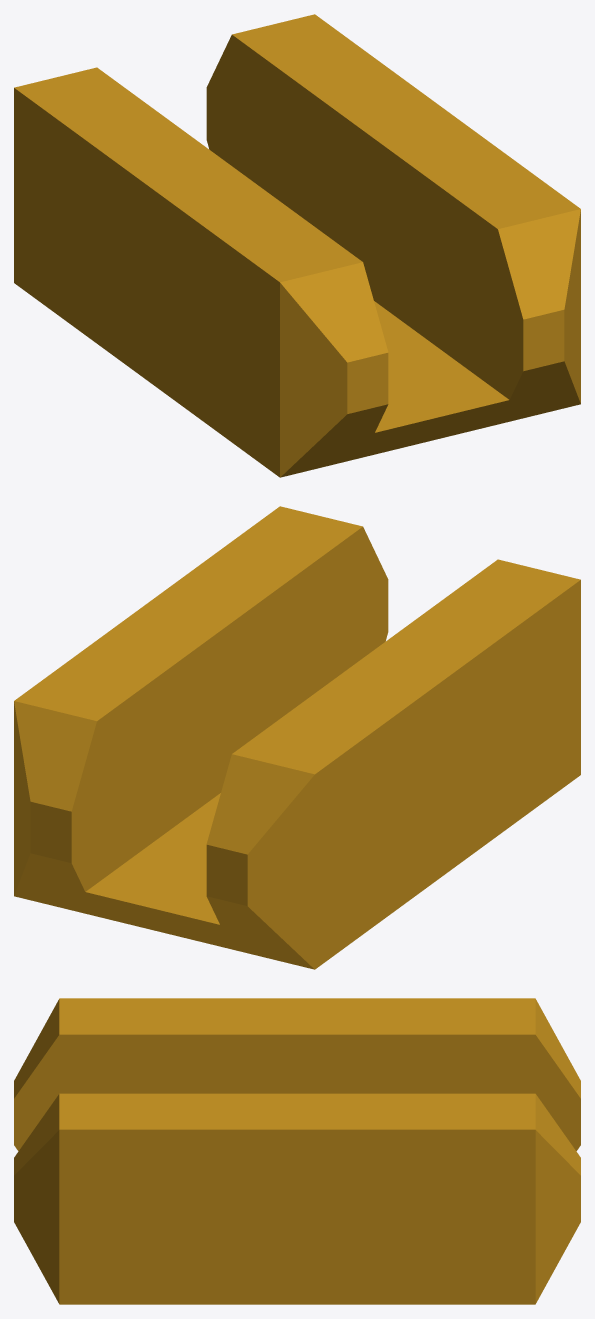
The model's file is hotdog_bun.obj.
3 views of the same model, one above another, from view 1: azimuth 30°, elevation 25°; view 2: azimuth 150°, elevation 25°; view 3: azimuth 270°, elevation 25° (orthographic). The views are drawn at different scales.
Parts seen in each view (by area): view 1: Sausage_Cube.001; view 2: Sausage_Cube.001; view 3: Sausage_Cube.001.
Boxes of the visible parts, x1,y1,x2,y2 form: Sausage_Cube.001: (14, 14, 580, 477); Sausage_Cube.001: (14, 506, 580, 969); Sausage_Cube.001: (14, 998, 580, 1304).
Size of the model in its own units: 4.69 by 2.91 by 8.55.
